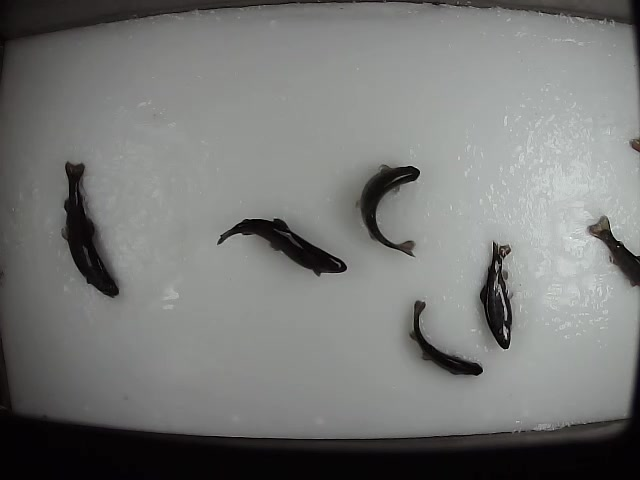fish: (58, 160, 121, 298), (210, 215, 350, 277), (351, 161, 422, 258), (408, 297, 483, 377), (478, 237, 512, 349)
